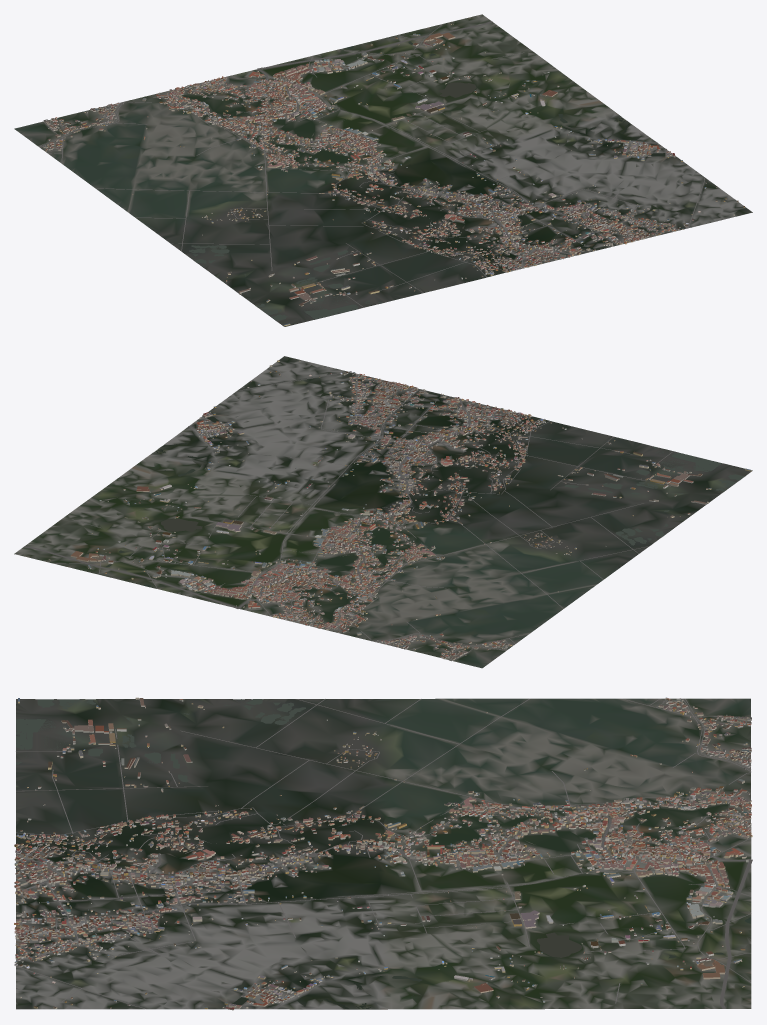
3 views of the same model, one above another, from view 1: azimuth 30°, elevation 25°; view 2: azimuth 150°, elevation 25°; view 3: azimuth 270°, elevation 25° (orthographic). The views are drawn at different scales.
Parts seen in each view (by area): view 1: ground, buildings, roads, water; view 2: ground, buildings, roads, water; view 3: ground, buildings, roads, water.
Part boxes in pixels (left/top/right/bottom): ground: left=14, top=14, right=752, bottom=326; buildings: left=41, top=23, right=744, bottom=326; roads: left=38, top=21, right=724, bottom=307; water: left=189, top=41, right=665, bottom=320; ground: left=14, top=356, right=752, bottom=668; buildings: left=48, top=360, right=751, bottom=661; roads: left=24, top=371, right=673, bottom=660; water: left=106, top=416, right=744, bottom=587; ground: left=16, top=698, right=751, bottom=1009; buildings: left=14, top=697, right=752, bottom=1010; roads: left=15, top=698, right=752, bottom=1009; water: left=16, top=699, right=750, bottom=1008.
Size of the model in its own units: 2813 by 25.8 by 2818.
